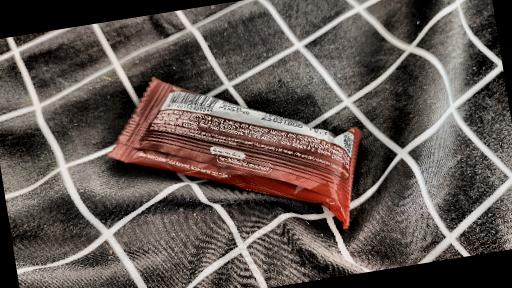top: (46, 2, 379, 237)
